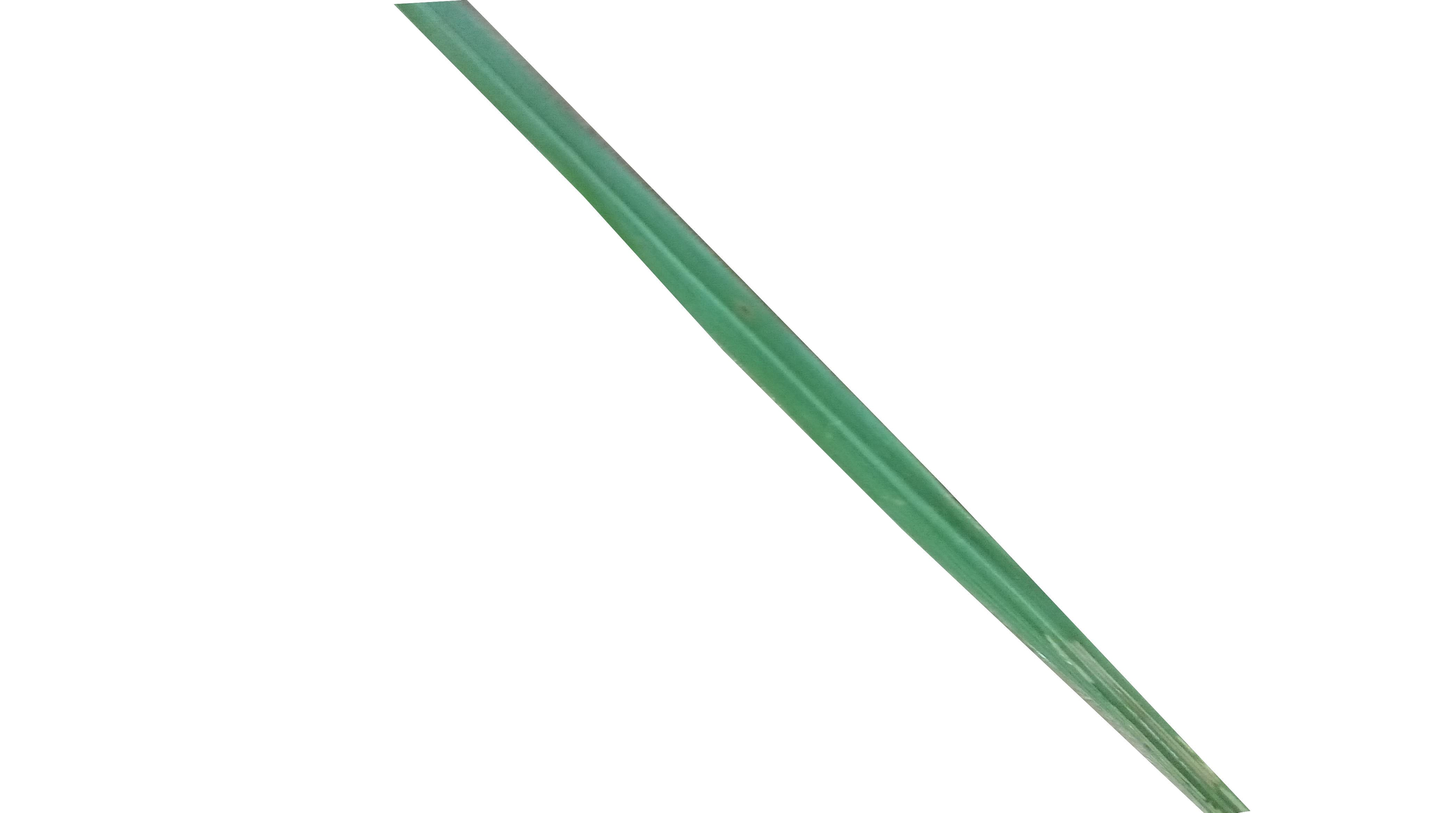Brown spot: (733, 299, 761, 327)
